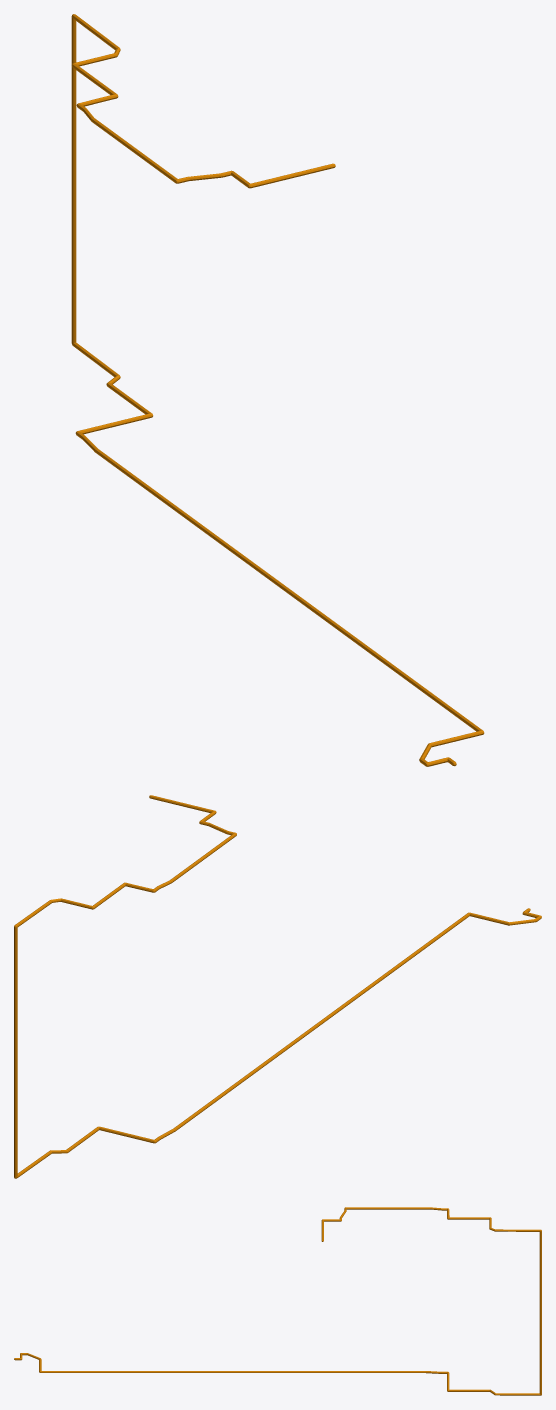
The picture shows the model from 3 angles, top to bottom: view 1: azimuth 30°, elevation 25°; view 2: azimuth 150°, elevation 25°; view 3: azimuth 270°, elevation 25°; orthographic projection. The views are drawn at different scales.
Size of the model in its own units: 1014 by 1520 by 4383.
